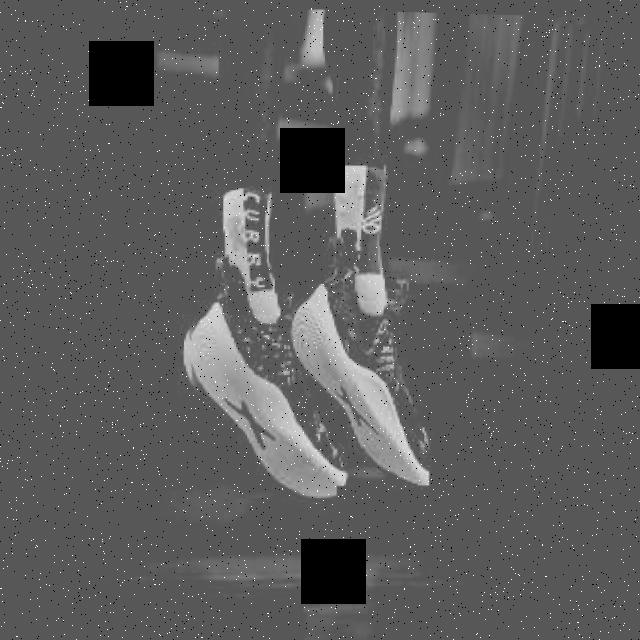shoe: (178, 248, 349, 500), (280, 226, 442, 487)
